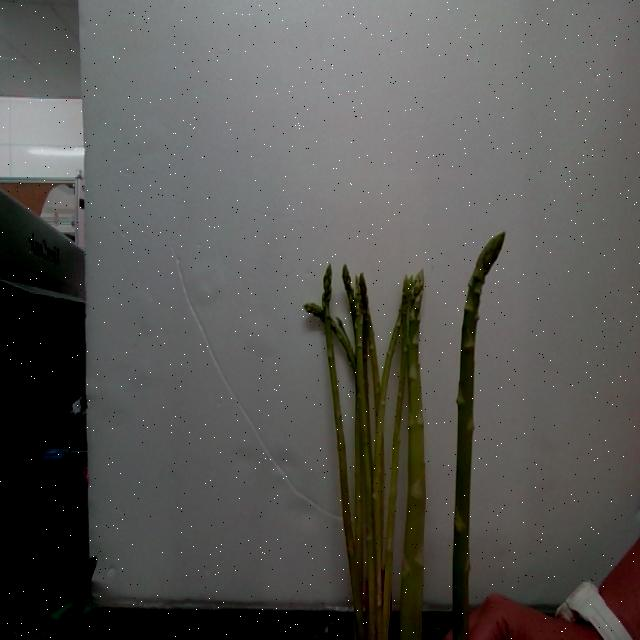aspargus: (452, 235, 506, 640)
